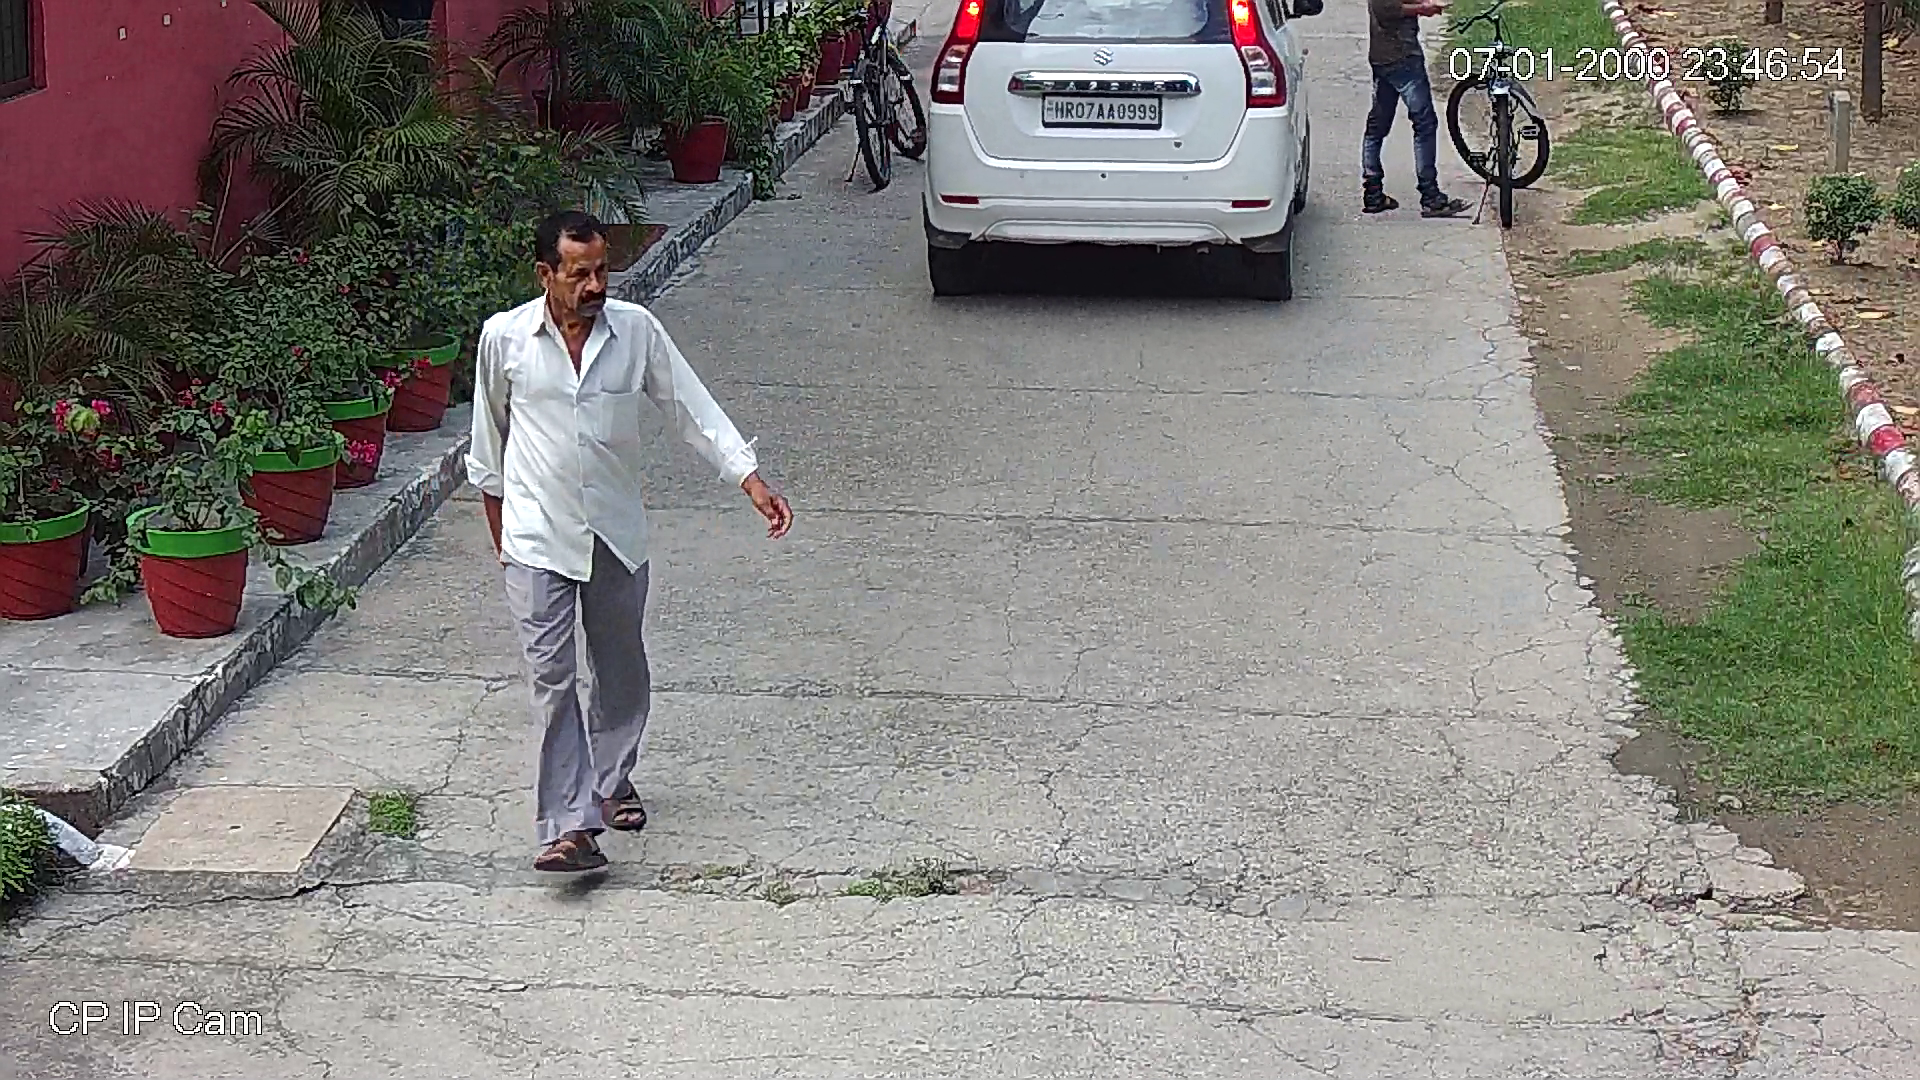plate: (1036, 96, 1167, 128)
